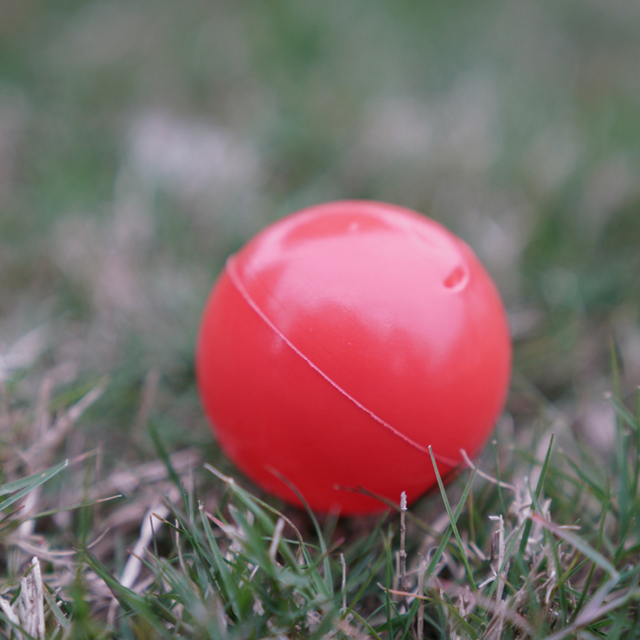Ball: (194, 196, 507, 516)
